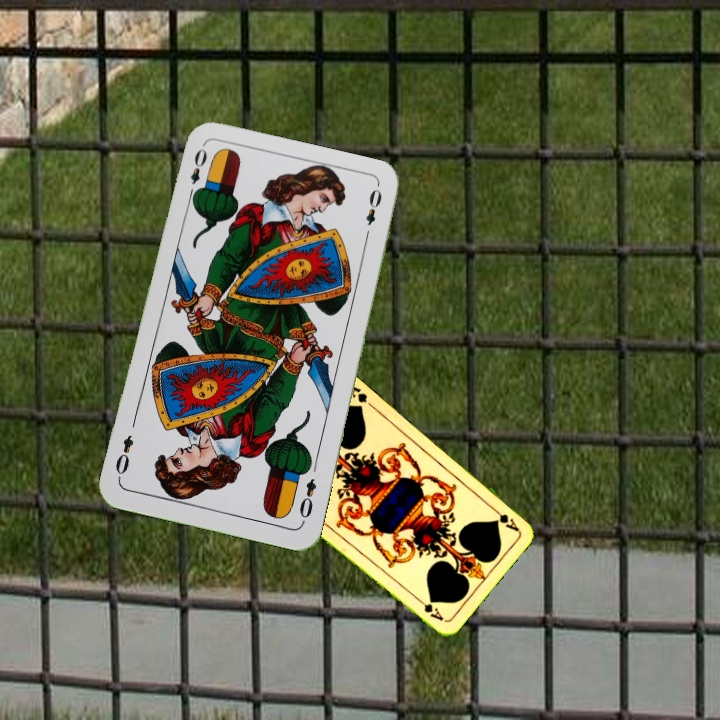EO: (184, 144, 210, 202), (295, 474, 319, 526)
GA: (487, 502, 521, 534)
